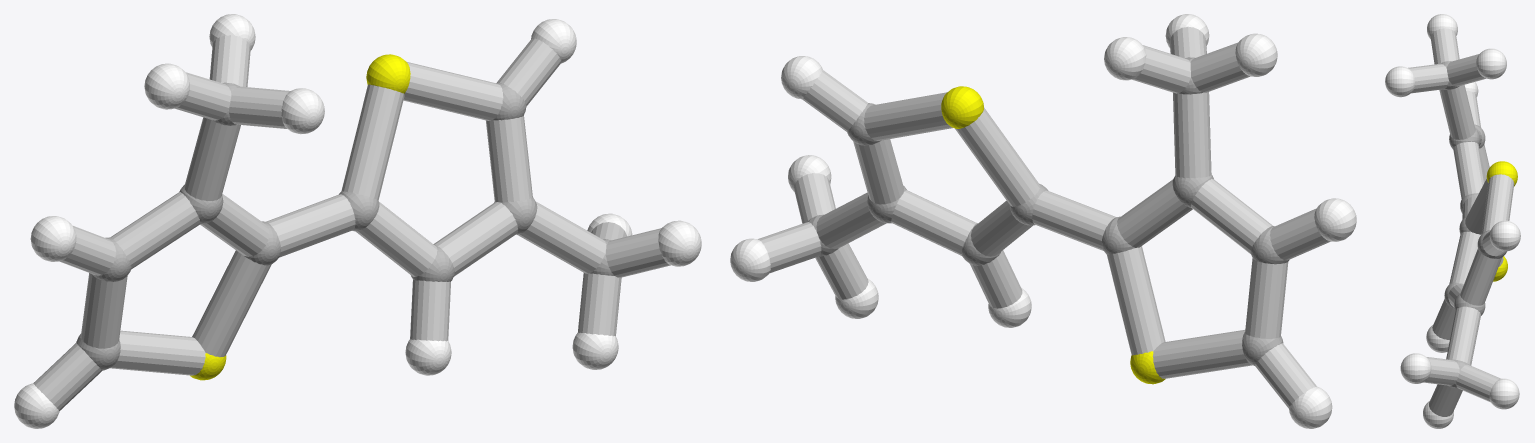
File: Methylthiophene_Phi_5_Theta_330_Methylthiophene.glb
The picture shows the model from 3 angles, left to right: view 1: azimuth 30°, elevation 25°; view 2: azimuth 150°, elevation 25°; view 3: azimuth 270°, elevation 25°; orthographic projection. The views are drawn at different scales.
Visible parts, largest first — view 1: grp7965, grp3621, grp1, grp7241; view 2: grp7965, grp3621, grp1, grp7241; view 3: grp7965, grp3621, grp1, grp7241.
Boxes of the visible parts, box(x1,y1,x2,y2) form: grp7965: box(33, 35, 670, 410); grp3621: box(14, 14, 701, 428); grp1: box(76, 82, 613, 370); grp7241: box(190, 54, 410, 380); grp7965: box(758, 26, 1330, 408); grp3621: box(730, 14, 1356, 428); grp1: box(807, 57, 1289, 365); grp7241: box(941, 86, 1165, 384); grp7965: box(1408, 28, 1514, 416); grp3621: box(1385, 14, 1520, 428); grp1: box(1440, 61, 1506, 388); grp7241: box(1486, 161, 1517, 281).
Bounding box in the file's own units: 9.45 × 5.78 × 2.61.
